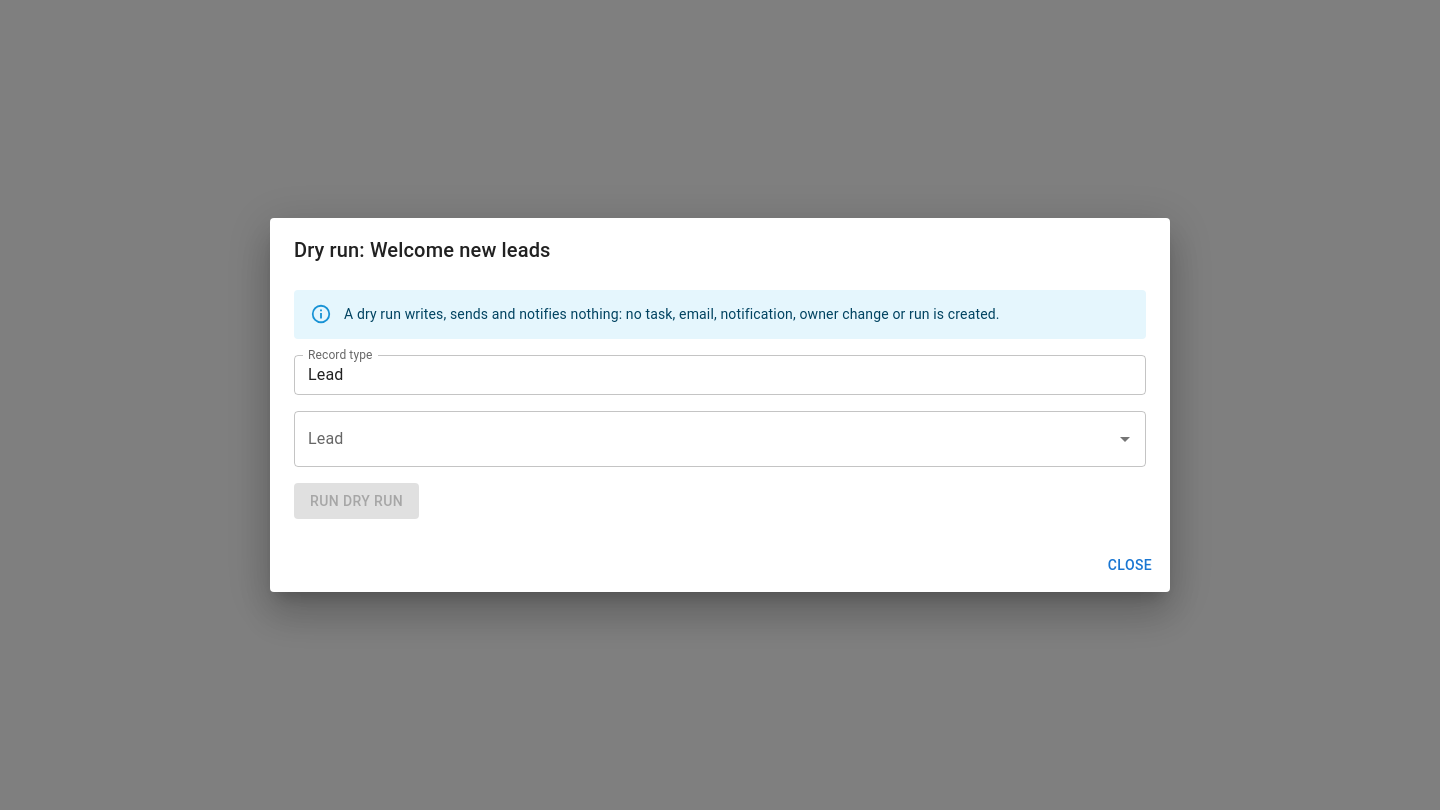
it: DryRunDialog › a mocked report renders every step row and the no-side-effects notice
Expected: the dialog "Dry run: Welcome new leads" is shown, left=270, top=218, right=1170, bottom=592
Expected: the message with test id "dry-run-notice" shows "A dry run writes, sends and notifies nothing: no task, email, notification, owner change or run is created.", left=344, top=306, right=1000, bottom=322
Press the mouse on the dropdown labelled "Lead" at (705, 438), box left=303, top=420, right=1107, bottom=458
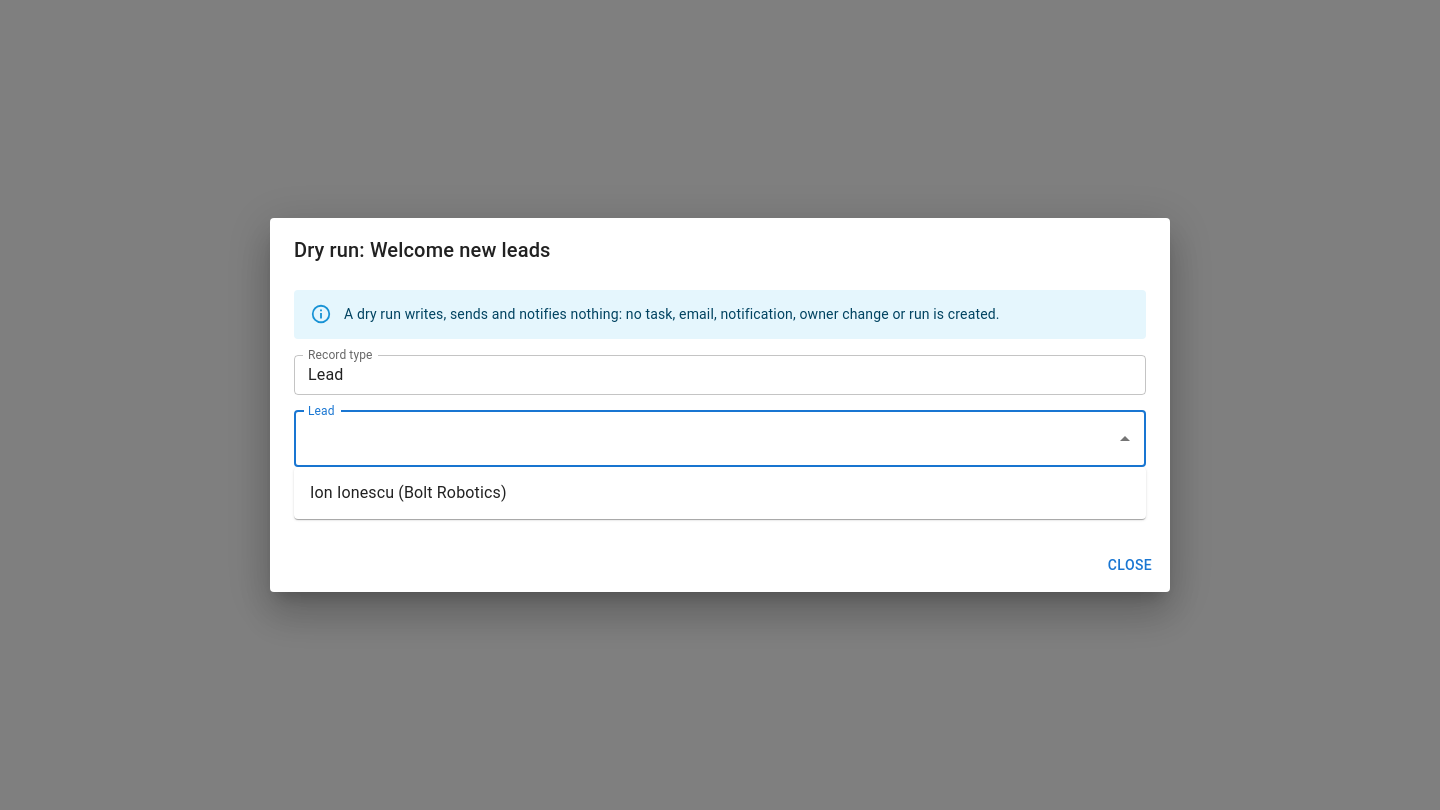
Click the option "Ion Ionescu (Bolt Robotics)" at (408, 492), box left=310, top=483, right=507, bottom=502
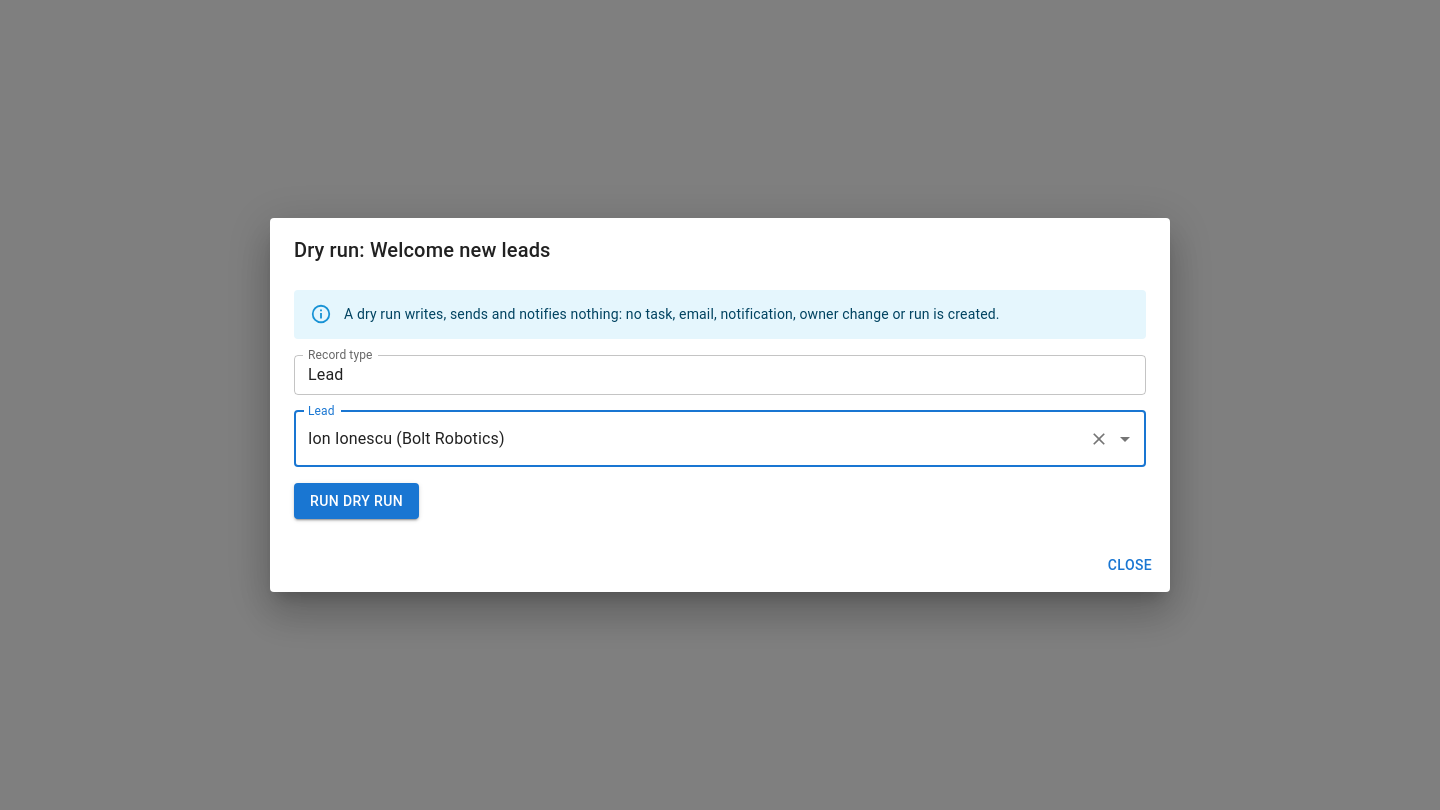
Result: the dropdown labelled "Lead" holds "Ion Ionescu (Bolt Robotics)" at left=303, top=420, right=1081, bottom=458
Click the button "Run dry run" at (357, 501), box left=294, top=482, right=419, bottom=519
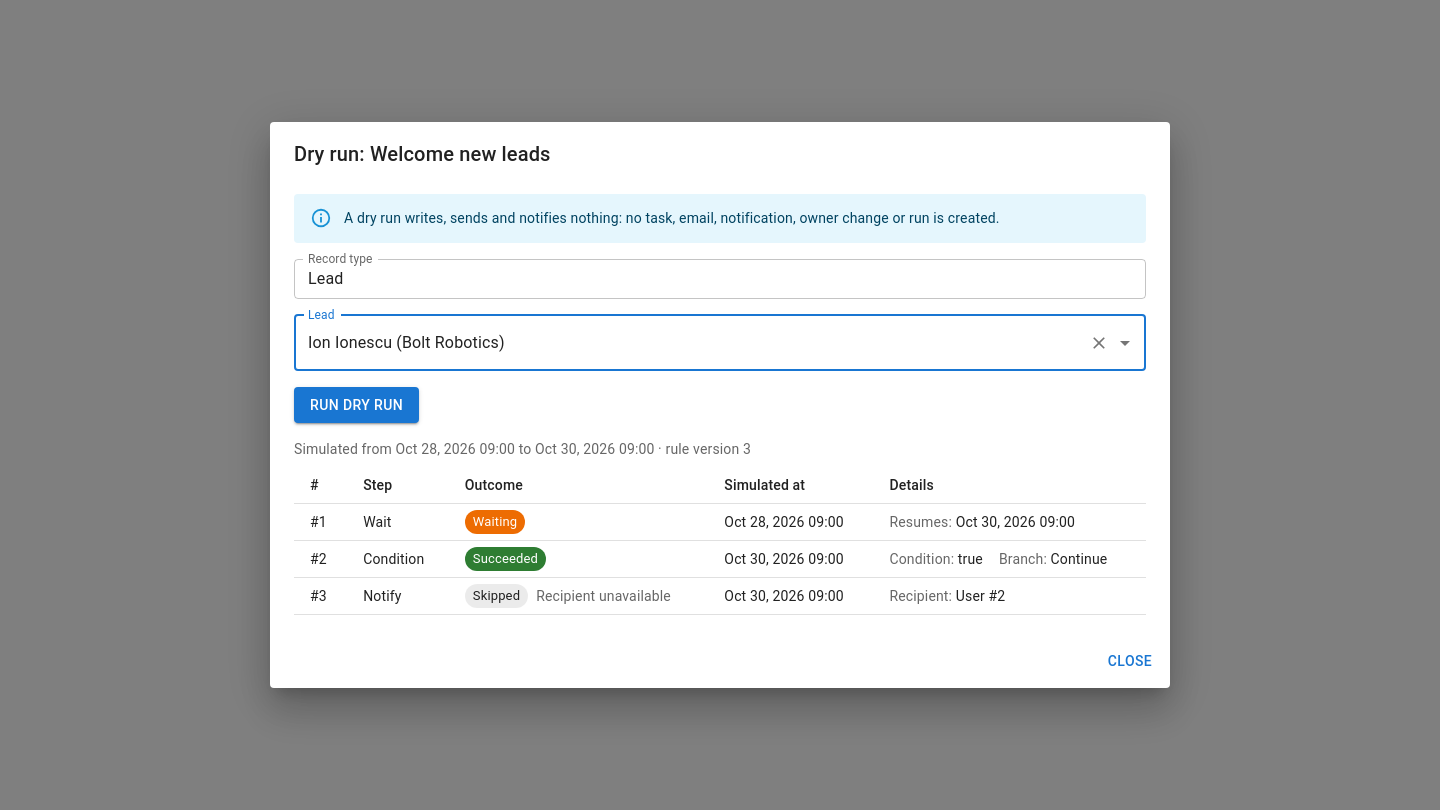
Result: the number of rows with test id "dry-run-step" is 3 at left=294, top=504, right=1146, bottom=540; left=294, top=540, right=1146, bottom=578; left=294, top=578, right=1146, bottom=614
Result: the row with test id "dry-run-step" shows "#1" at left=294, top=504, right=1146, bottom=540
Result: the row with test id "dry-run-step" shows "Wait" at left=363, top=514, right=392, bottom=530
